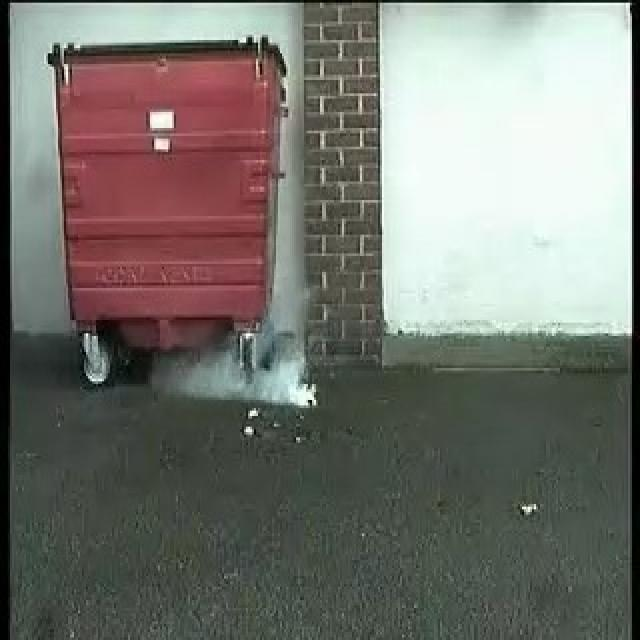smoke: (188, 318, 317, 407)
